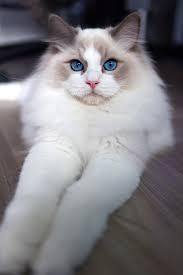ragdoll: (42, 1, 145, 135)
